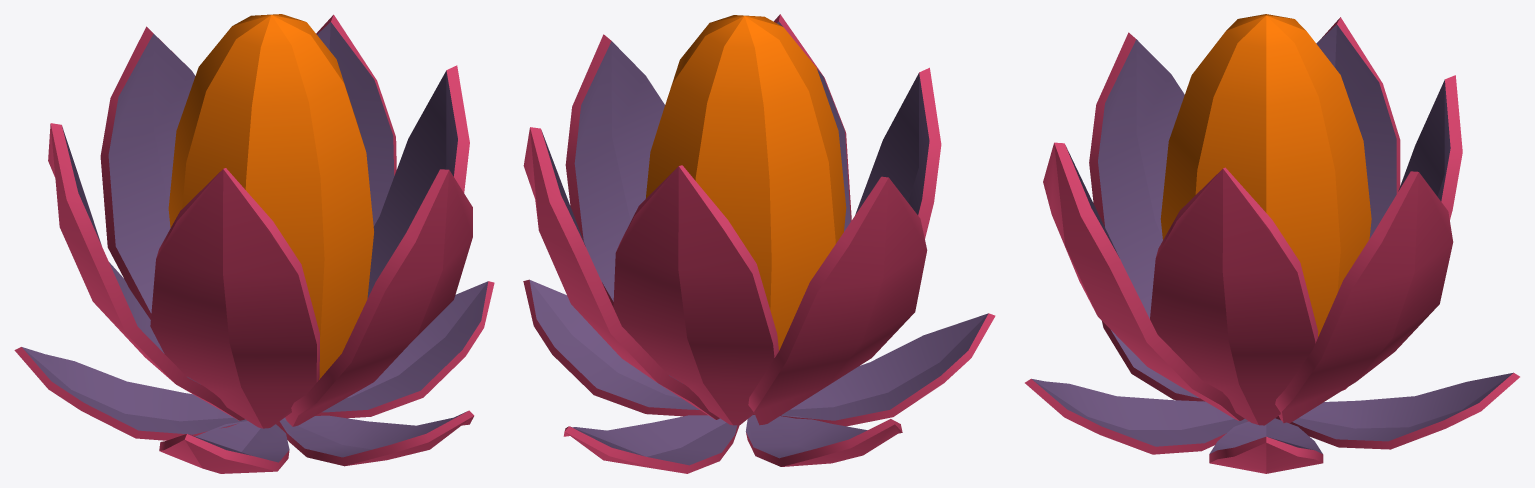
Rendered from Shrub_4.fbx.
3 views of the same model, side by side, from view 1: azimuth 30°, elevation 25°; view 2: azimuth 150°, elevation 25°; view 3: azimuth 270°, elevation 25° (orthographic).
Parts seen in each view (by area): view 1: Shrub_4; view 2: Shrub_4; view 3: Shrub_4.
Part boxes in pixels (x1,y1,x2,y2): Shrub_4: (14,14,494,473); Shrub_4: (523,14,995,473); Shrub_4: (1025,14,1519,473).
Size of the model in its own units: 154 by 140 by 156.
